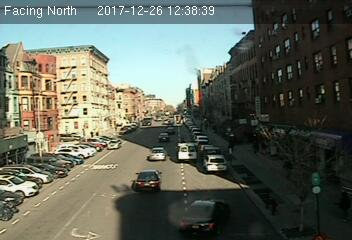car: (178, 198, 230, 238), (135, 169, 163, 190), (204, 154, 226, 172), (150, 147, 167, 161), (158, 133, 169, 142)
truck: (176, 143, 198, 162)
